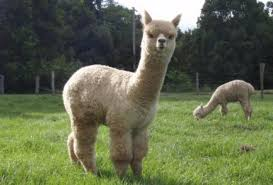alpaca: (62, 9, 182, 181), (193, 79, 255, 122)
